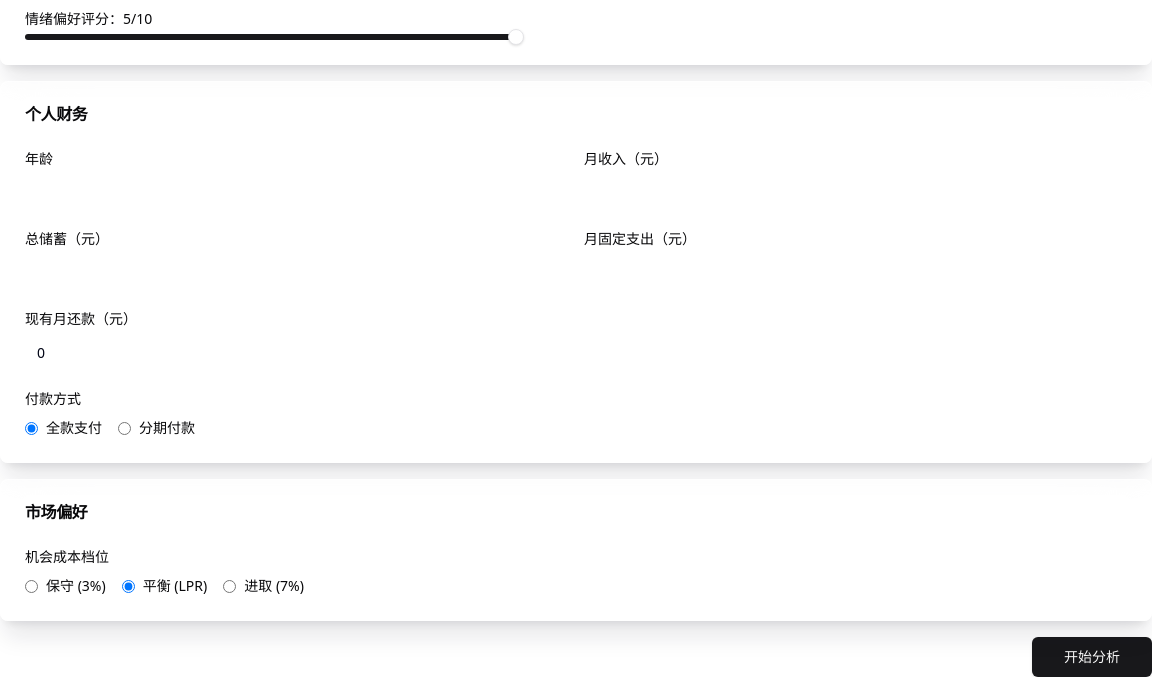
Test: InputForm › shows validation error when itemName empty on submit
(page scrolled)
Click the button "开始分析" at (1092, 657), box [1032, 637, 1152, 676]
(page scrolled)
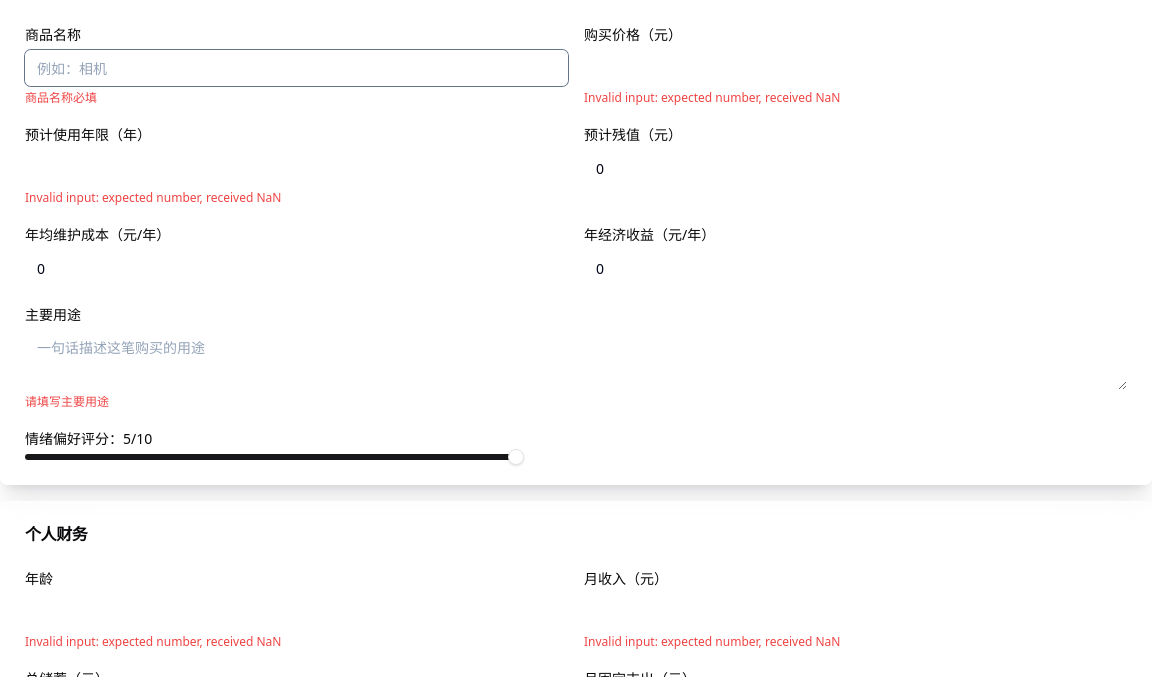
Expected: the text "商品名称必填" is shown, [25, 89, 97, 106]
